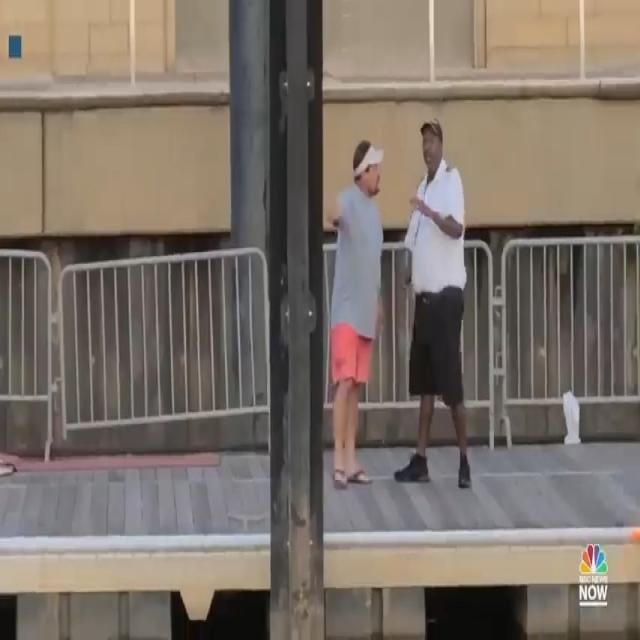non-fight: (322, 117, 478, 495)
